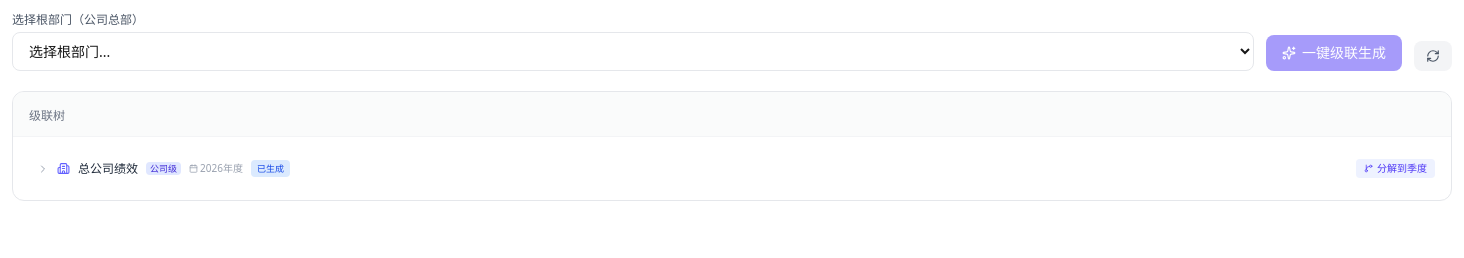
Scenario: CascadeTreeTab › decompose period › shows error on decompose failure
Click the button "分解到季度": (1396, 168) [1356,159,1435,178]
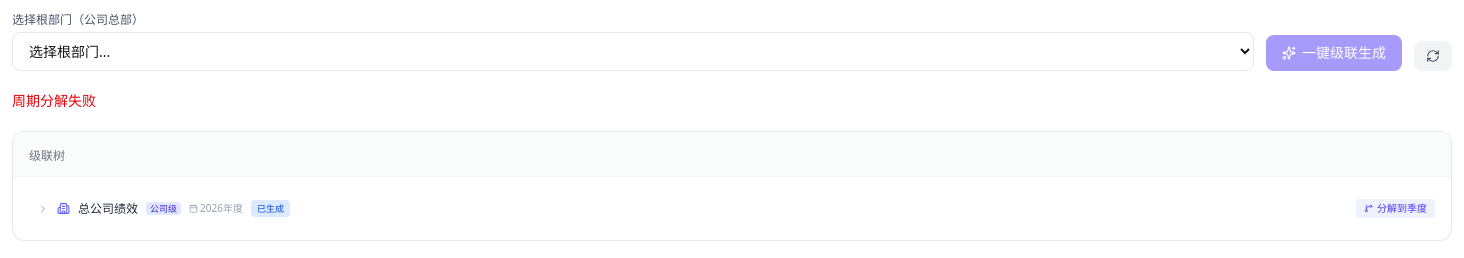
expect the text "周期分解失败" is shown: met, box [12,91,96,110]
